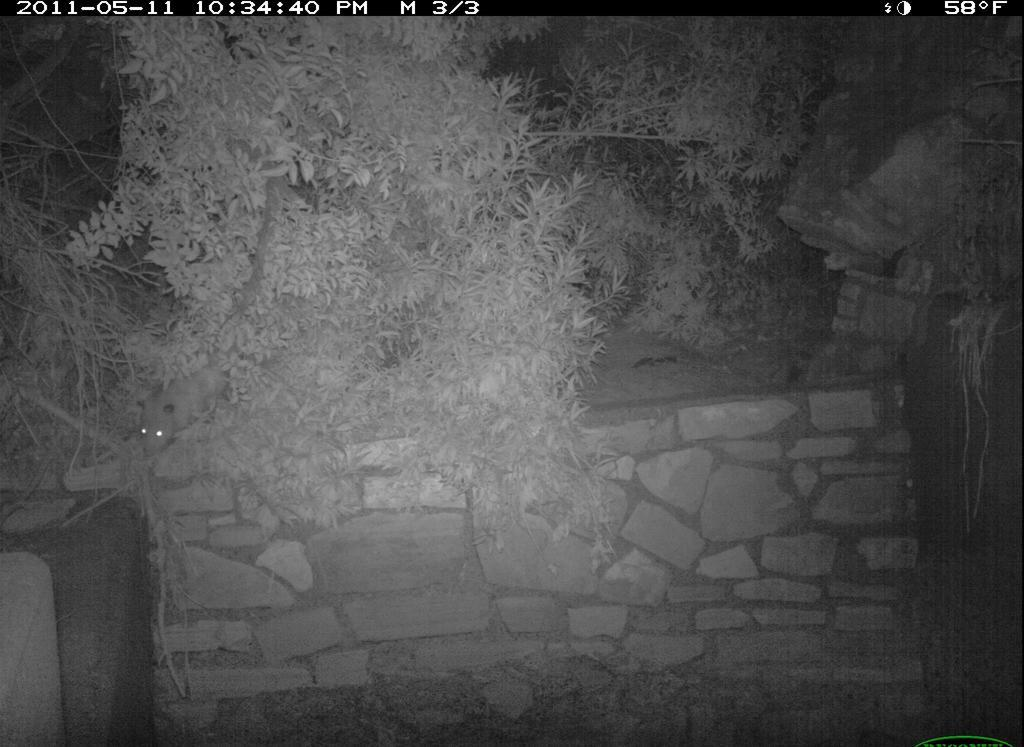opossum: (133, 352, 307, 463)
